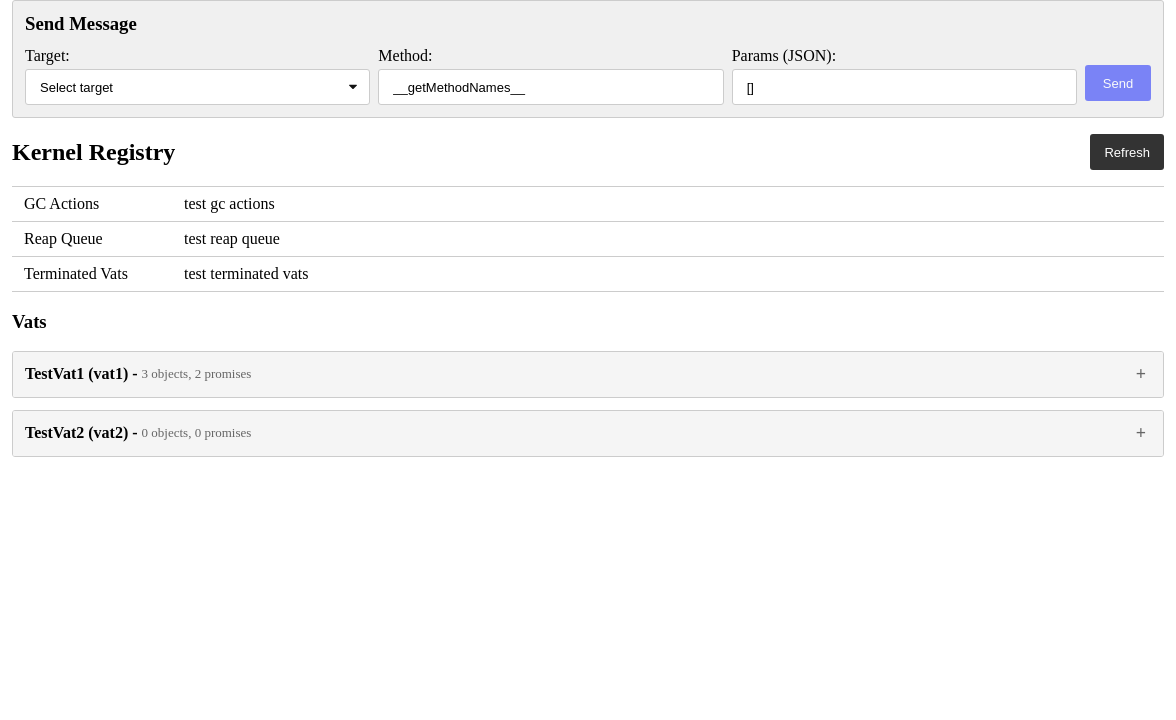
Scenario: ObjectRegistry Component › toggles vat details when clicked
Check: the text "Owned Objects" is not shown
Click the element with class "accordion-header" that starts with "TestVat1". click: (588, 375)
box: [13,352,1163,397]
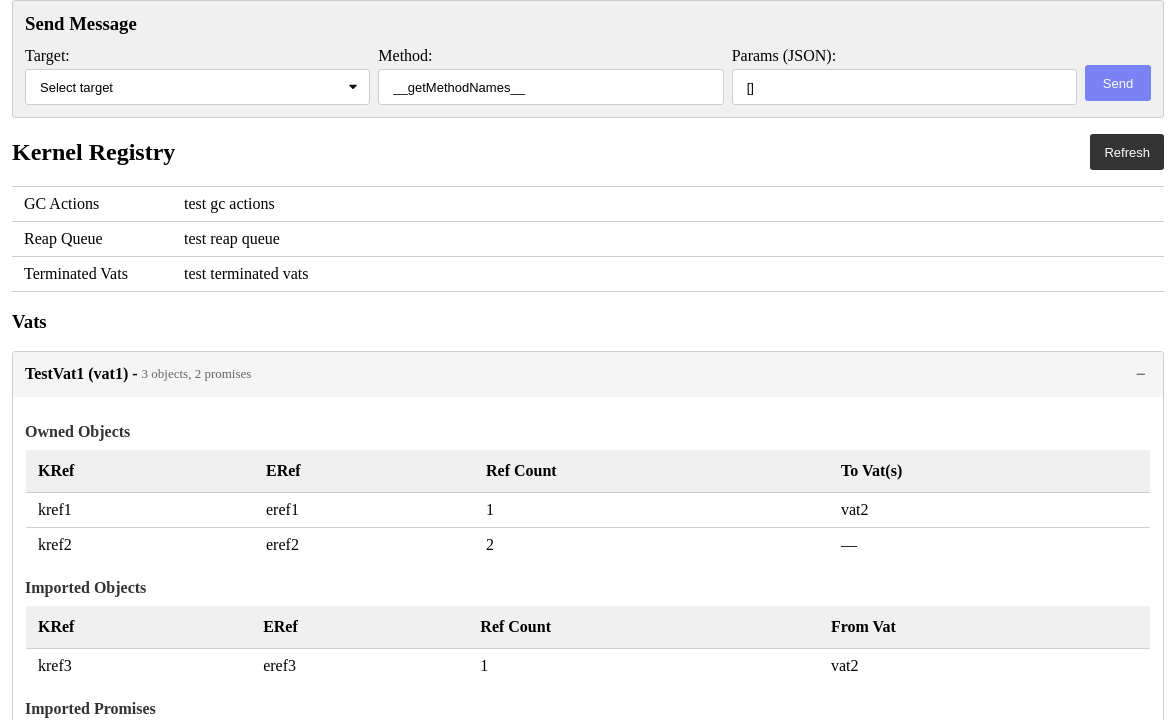
Check: the heading "Owned Objects" is shown, box [25,423,130,440]
Check: the heading "Imported Objects" is shown, box [25,579,146,596]
Check: the heading "Imported Promises" is shown, box [25,700,156,717]
// Click again to collapse
Click the element with class "accordion-header". click: (588, 375)
box: [13,352,1163,397]
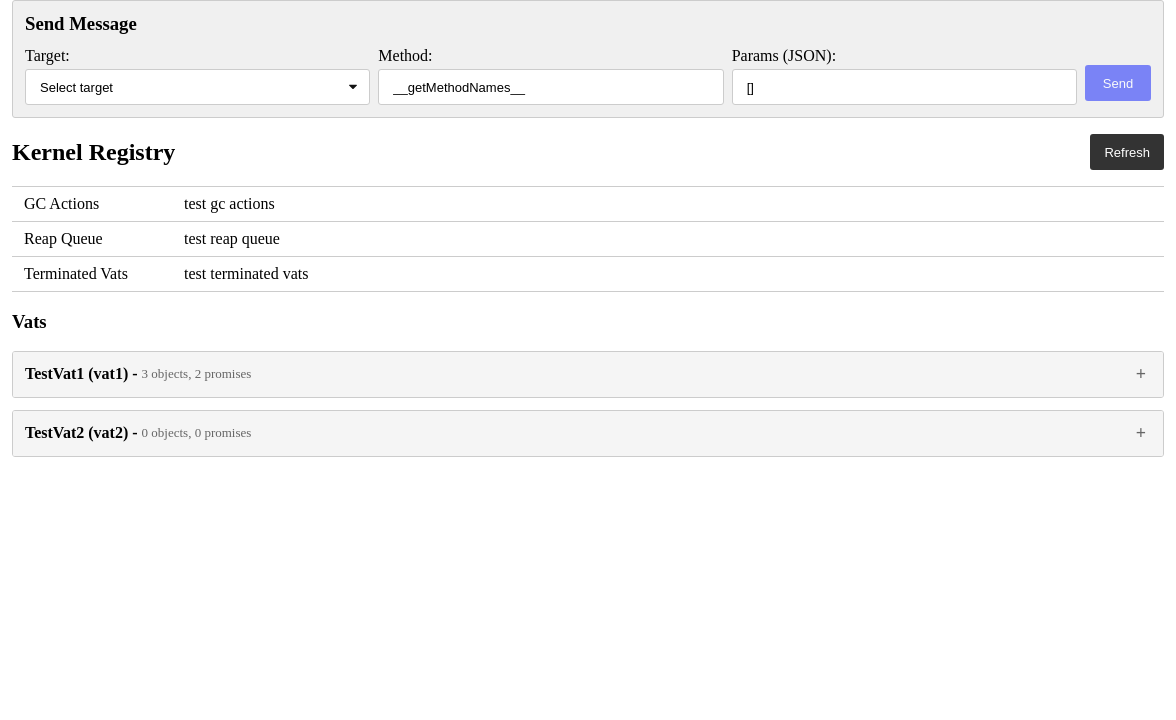
Check: the heading "Owned Objects" is gone
